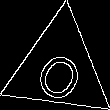O_NE: (28, 35, 89, 102)
